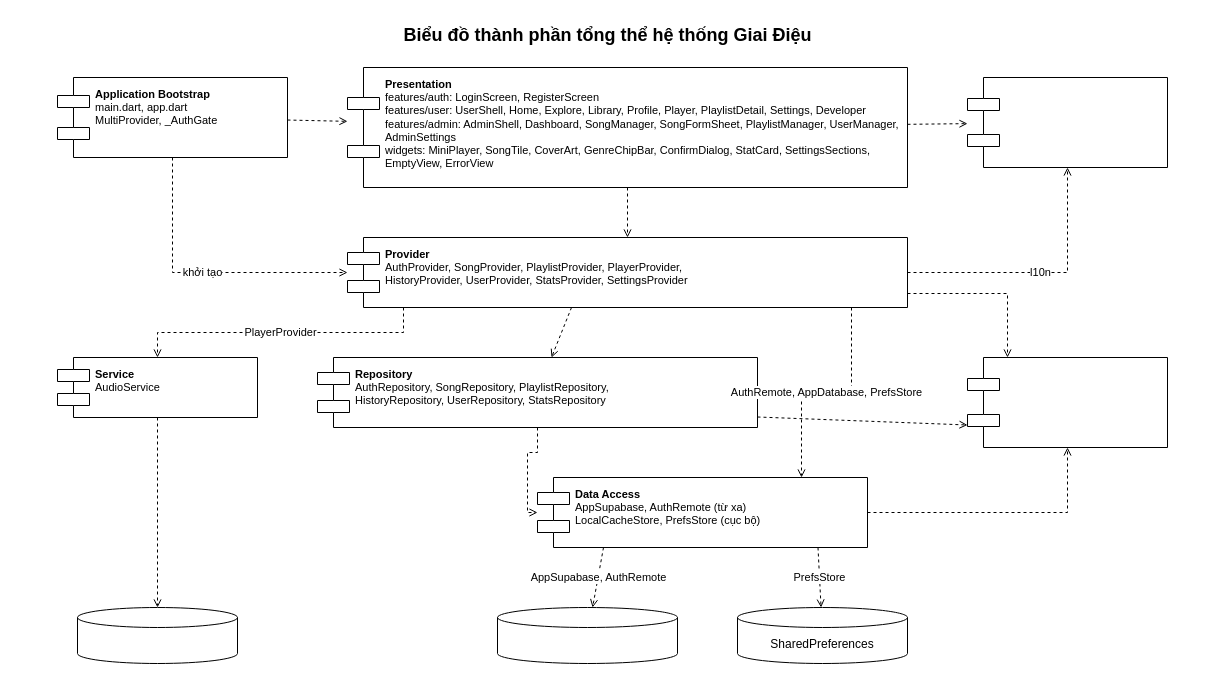
Some shapes in this 1214 by 681 pixel diagram are drawn without their labels. Each missing label, with the box of its shape:
Core AppTheme (sáng/tối) l10n: vi, en Validators: (966, 76, 1168, 168)
just_audio: (76, 606, 238, 664)
Model AppUser, UserRole, Song, Genre, Playlist, HistoryEntry, DashboardStats: (966, 356, 1168, 448)
Supabase Auth, PostgreSQL: (496, 606, 678, 664)
